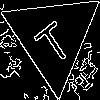T: (28, 12, 76, 67)
